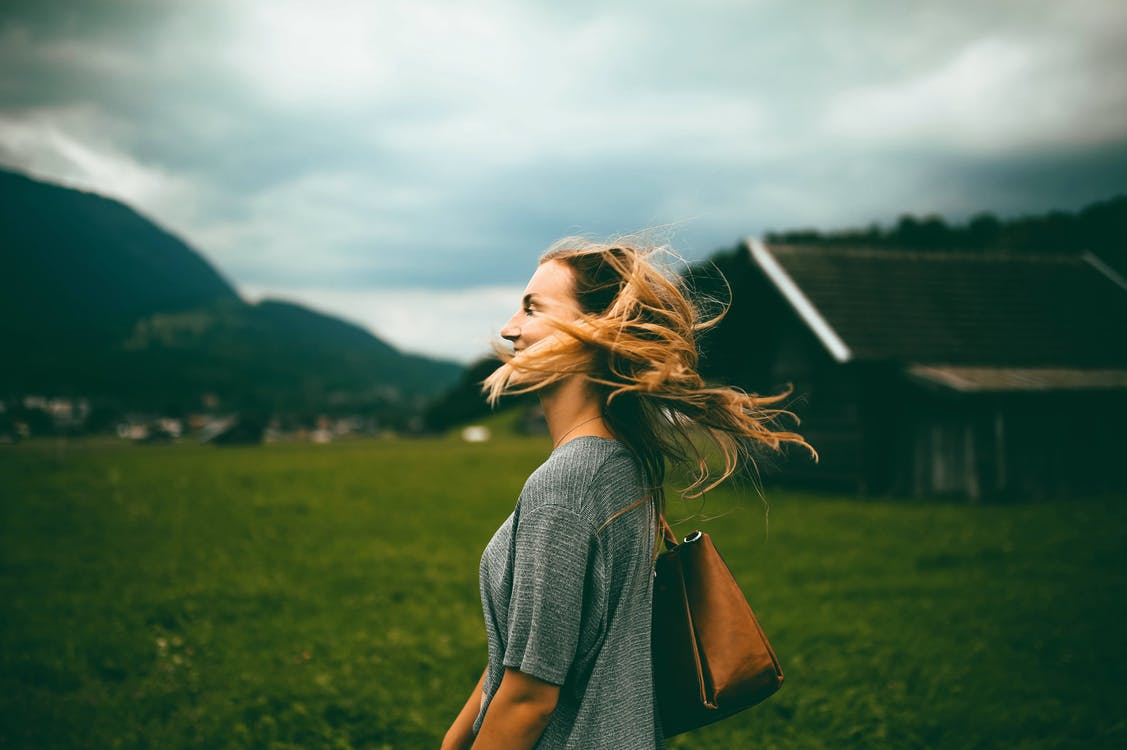human: (432, 219, 800, 750)
